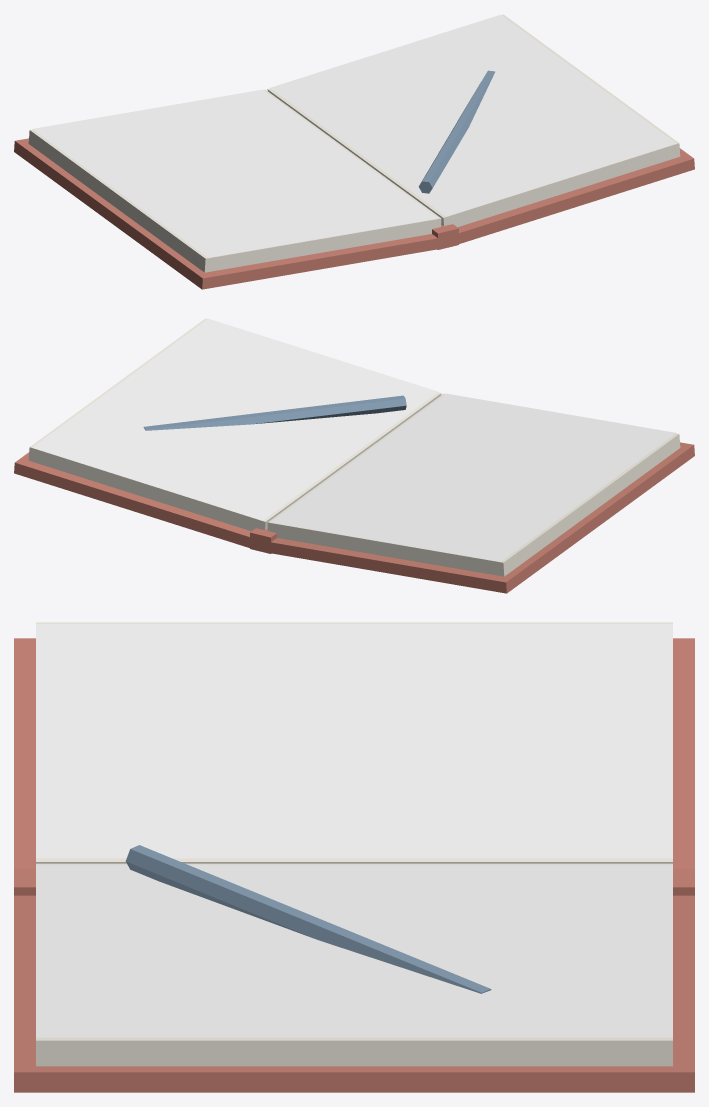
File: lab_notebook_open.glb
The picture shows the model from 3 angles, top to bottom: view 1: azimuth 30°, elevation 25°; view 2: azimuth 150°, elevation 25°; view 3: azimuth 270°, elevation 25°; orthographic projection. The views are drawn at different scales.
Visible parts, largest first — view 1: lab_notebook_open; view 2: lab_notebook_open; view 3: lab_notebook_open.
Boxes of the visible parts, x1,y1,x2,y2 form: lab_notebook_open: [14, 14, 694, 289]; lab_notebook_open: [14, 318, 694, 593]; lab_notebook_open: [14, 622, 694, 1092].
Size of the model in its own units: 0.9377 by 0.0773 by 0.62.
